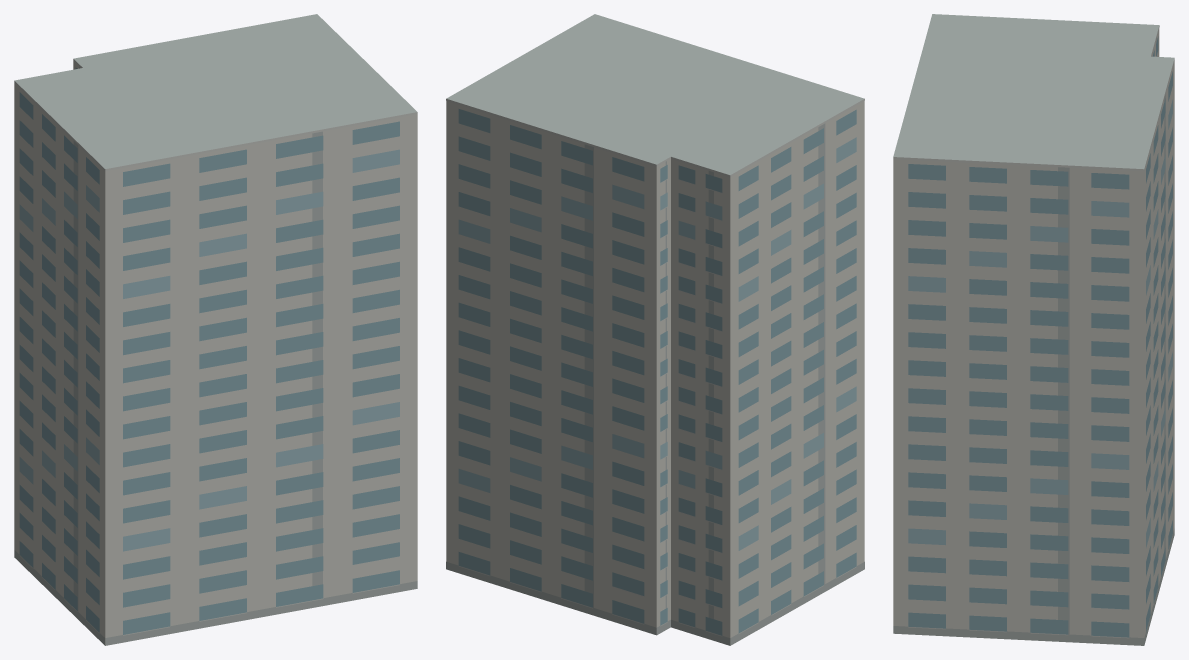
The model's file is residential-56370651-52a2-416c-8728-bf8704df14c7.glb.
The picture shows the model from 3 angles, left to right: view 1: azimuth 30°, elevation 25°; view 2: azimuth 150°, elevation 25°; view 3: azimuth 270°, elevation 25°; orthographic projection.
Parts seen in each view (by area): view 1: residential-56370651-52a2-416c-8728-bf8704df14c7.tmp; view 2: residential-56370651-52a2-416c-8728-bf8704df14c7.tmp; view 3: residential-56370651-52a2-416c-8728-bf8704df14c7.tmp.
Boxes of the visible parts, <box> form: residential-56370651-52a2-416c-8728-bf8704df14c7.tmp: <box>14,14,417,645</box>; residential-56370651-52a2-416c-8728-bf8704df14c7.tmp: <box>446,14,864,645</box>; residential-56370651-52a2-416c-8728-bf8704df14c7.tmp: <box>893,14,1174,645</box>.
Size of the model in its own units: 37.71 by 54 by 28.91.
